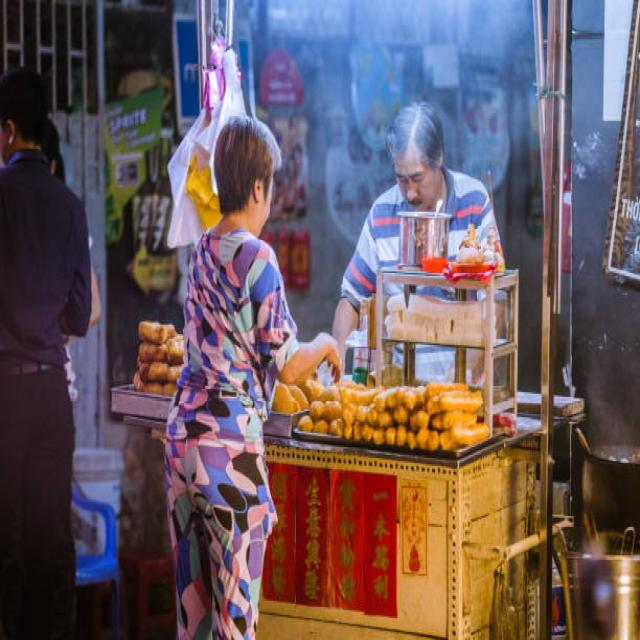Emperan: (131, 165, 554, 640)
